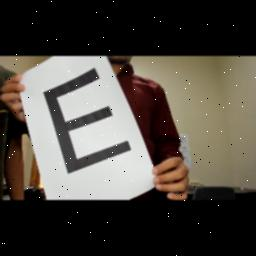e: (40, 66, 132, 174)
